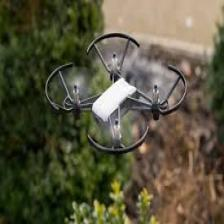drone: (47, 31, 186, 158)
